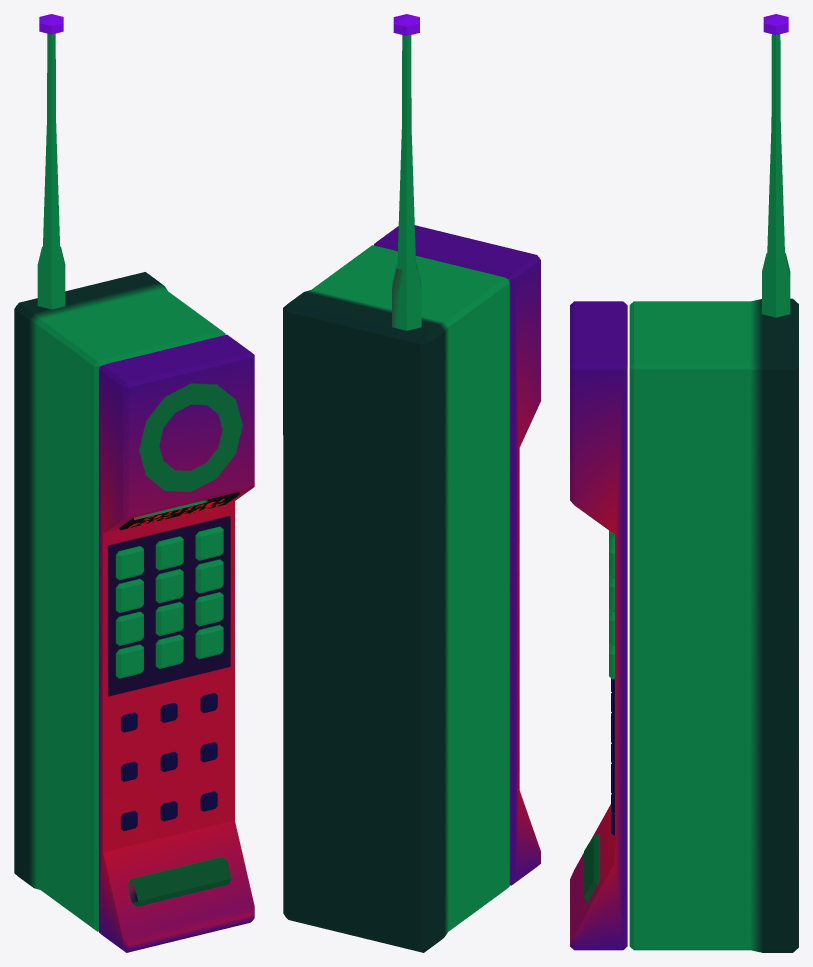
The picture shows the model from 3 angles, left to right: view 1: azimuth 30°, elevation 25°; view 2: azimuth 150°, elevation 25°; view 3: azimuth 270°, elevation 25°; orthographic projection. The views are drawn at different scales.
Parts seen in each view (by area): view 1: Phono; view 2: Phono; view 3: Phono.
Part boxes in pixels (<box>): Phono: <box>14,14,254,952</box>; Phono: <box>283,14,540,952</box>; Phono: <box>570,14,798,952</box>.
Size of the model in its own units: 0.0853 by 0.5174 by 0.1216.
1 material, 1 textured.
